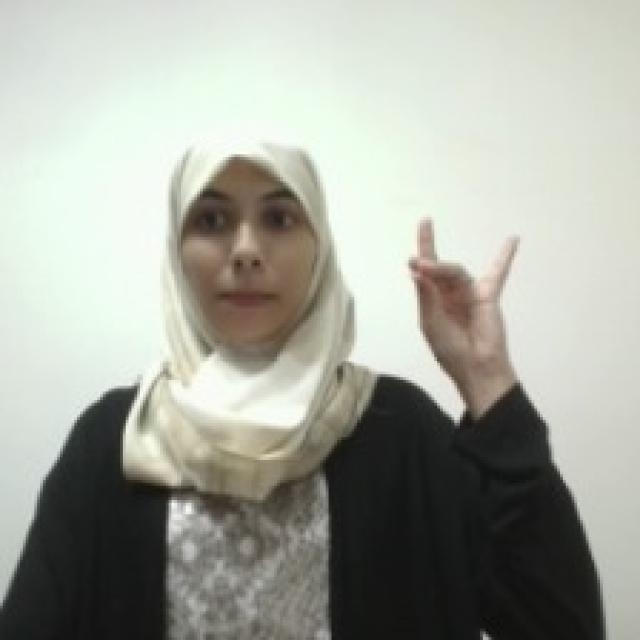Dog: (402, 209, 526, 365)
